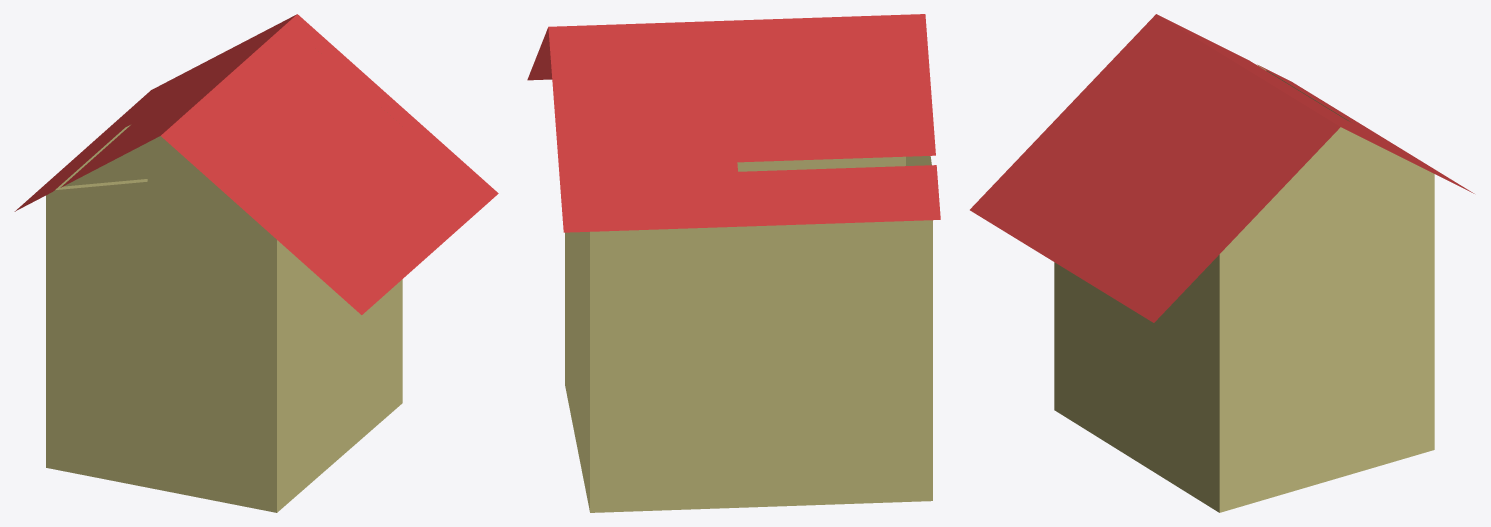
3 renders of one model, left to right at view 1: azimuth 30°, elevation 25°; view 2: azimuth 150°, elevation 25°; view 3: azimuth 270°, elevation 25°, orthographic. The views are drawn at different scales.
Bounding box in the file's own units: 15.09 × 15.61 × 12.34.
